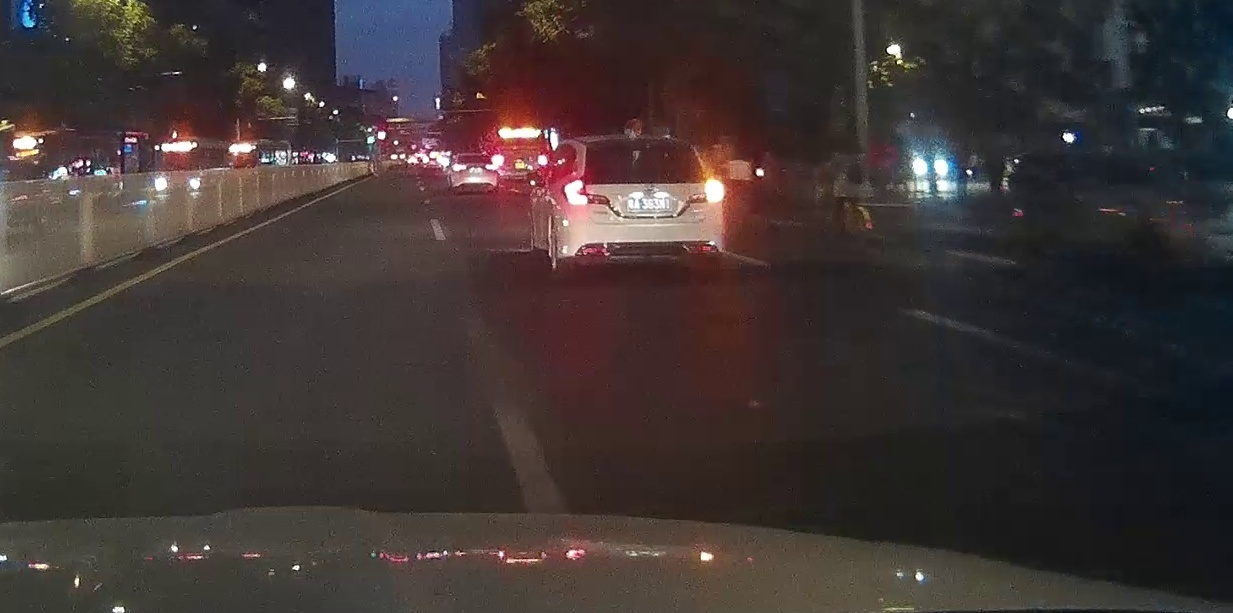L_light: (567, 193, 610, 205), (452, 164, 466, 172)
R_light: (685, 192, 722, 203), (484, 164, 497, 171)
T_light: (637, 139, 654, 145), (471, 156, 479, 159)
night-no: (564, 135, 723, 279), (452, 153, 498, 193)
